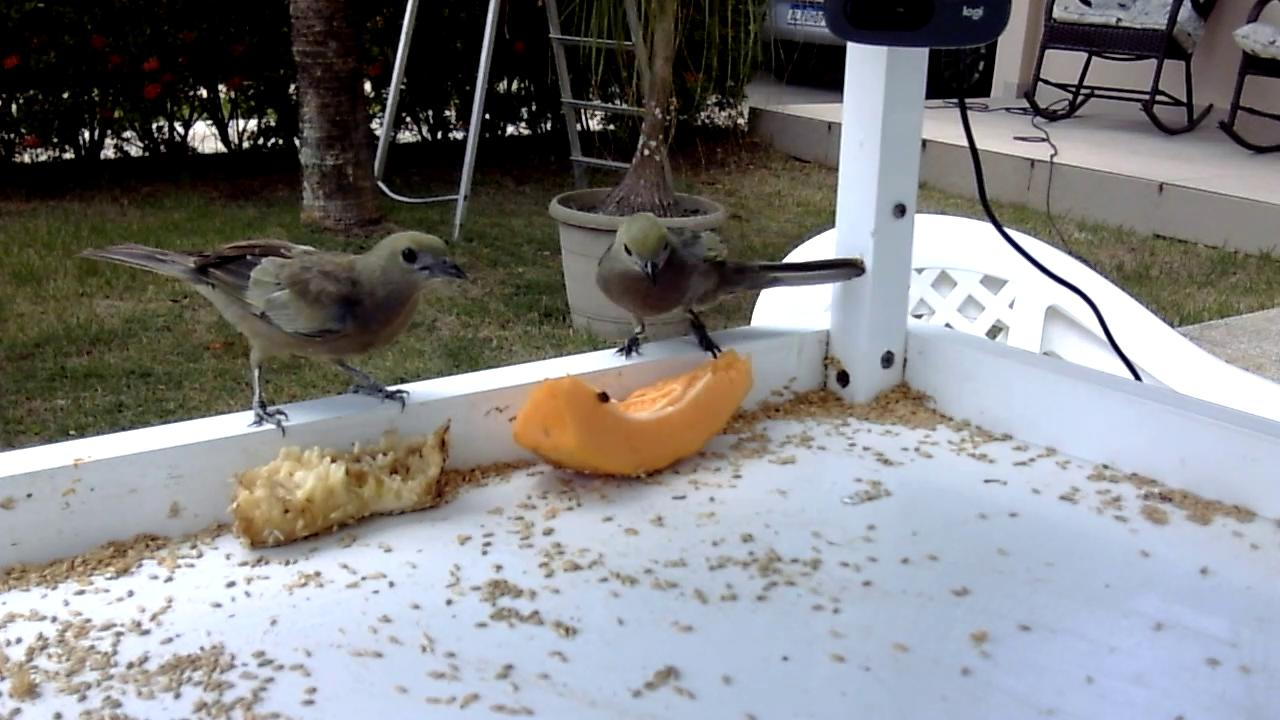sanhaco_do_coqueiro: (79, 230, 471, 439), (594, 212, 868, 364)
